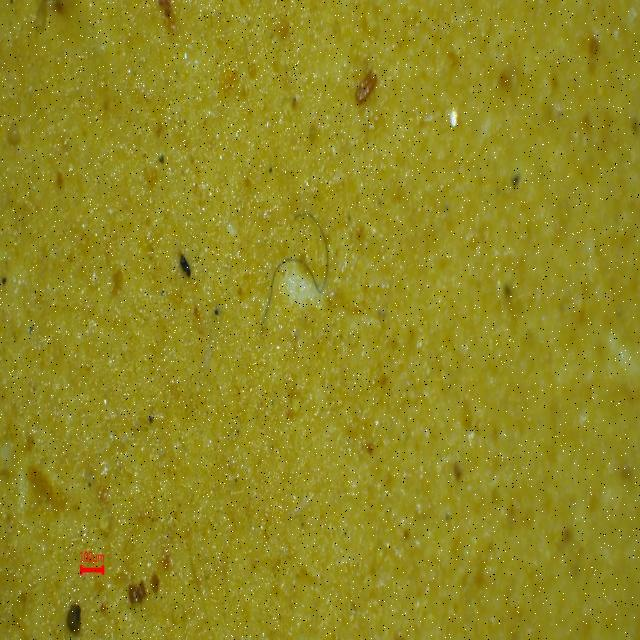fibers: (259, 207, 340, 344)
